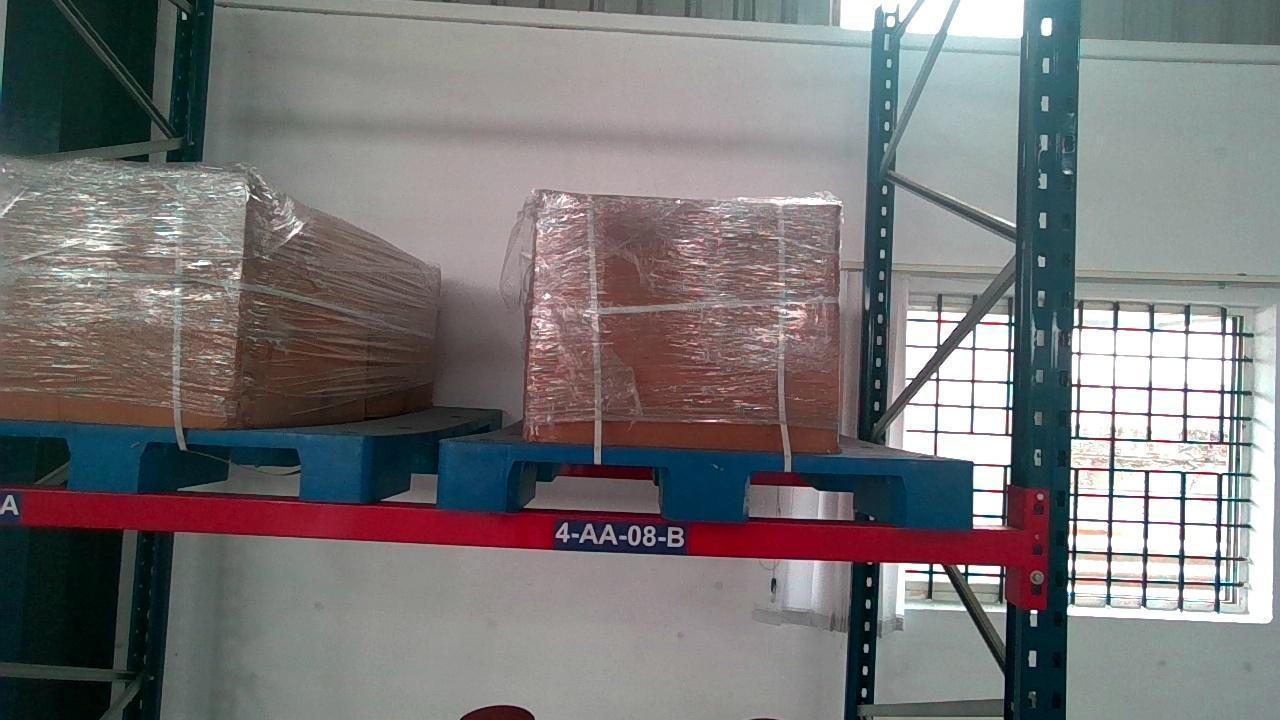h_rack: (0, 496, 1015, 560)
small_pallet: (428, 443, 972, 522), (0, 420, 361, 497)
